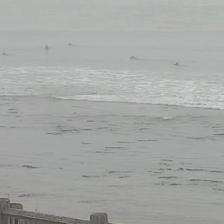surfer: (44, 44, 50, 50), (2, 51, 8, 56), (129, 55, 136, 59), (174, 62, 180, 66), (67, 42, 73, 46)
